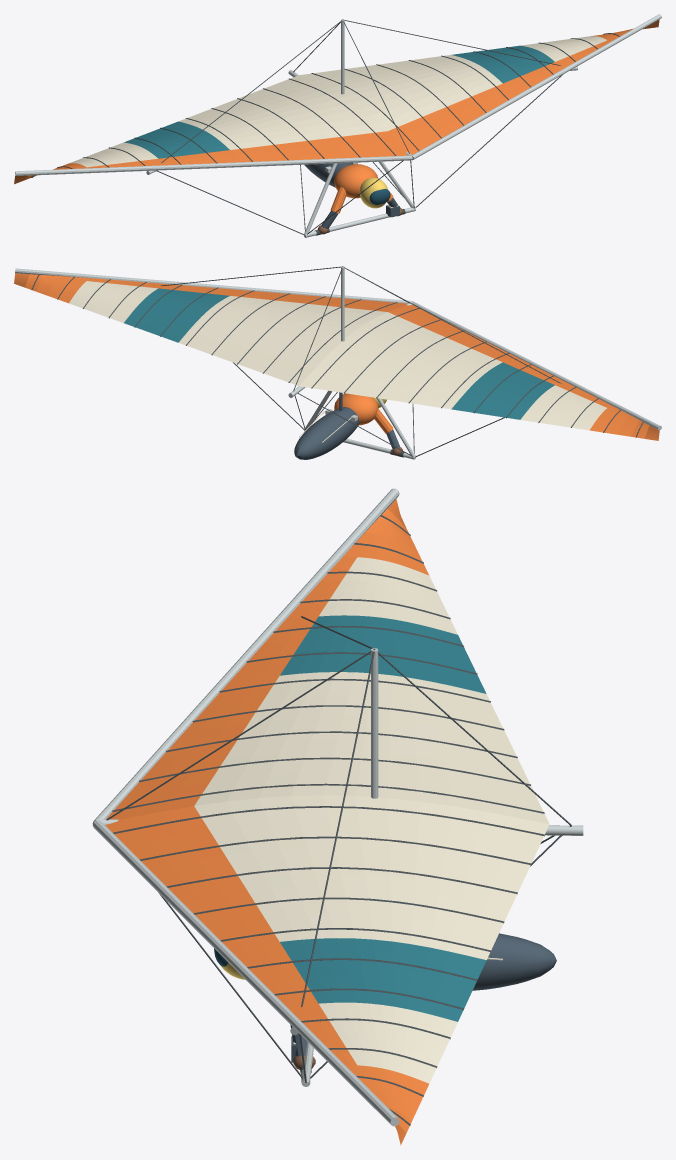
The model's file is glider.glb.
The picture shows the model from 3 angles, top to bottom: view 1: azimuth 30°, elevation 25°; view 2: azimuth 150°, elevation 25°; view 3: azimuth 270°, elevation 25°; orthographic projection. The views are drawn at different scales.
Parts seen in each view (by area): view 1: Static_SailIvory, Static_SailOrange, Static_Aluminium, Static_SailTeal, Static_Cable, Pilot_SailOrange, Pilot_Harness, Pilot_Helmet; view 2: Static_SailIvory, Static_SailOrange, Static_SailTeal, Static_Cable, Static_Aluminium, Pilot_Harness, Pilot_SailOrange; view 3: Static_SailIvory, Static_SailOrange, Static_SailTeal, Static_Cable, Static_Aluminium, Pilot_Harness.
Boxes of the visible parts, x1,y1,x2,y2 form: Static_SailIvory: (70, 36, 606, 207); Static_SailOrange: (14, 19, 659, 184); Static_Aluminium: (15, 14, 661, 237); Static_SailTeal: (124, 45, 554, 158); Static_Cable: (31, 19, 619, 235); Pilot_SailOrange: (330, 164, 393, 213); Pilot_Harness: (304, 163, 397, 228); Pilot_Helmet: (359, 177, 387, 208); Static_SailIvory: (69, 281, 606, 430); Static_SailOrange: (14, 273, 659, 440); Static_SailTeal: (124, 288, 554, 419); Static_Cable: (31, 266, 643, 457); Static_Aluminium: (15, 266, 661, 459); Pilot_Harness: (294, 392, 399, 459); Pilot_SailOrange: (334, 393, 392, 433); Static_SailIvory: (194, 557, 549, 1083); Static_SailOrange: (105, 499, 429, 1145); Static_SailTeal: (280, 615, 486, 1021); Static_Cable: (106, 515, 571, 1125); Static_Aluminium: (92, 488, 583, 1126); Pilot_Harness: (290, 933, 556, 1056).
Bounding box in the file's own units: 10.23 × 2.91 × 3.36.
